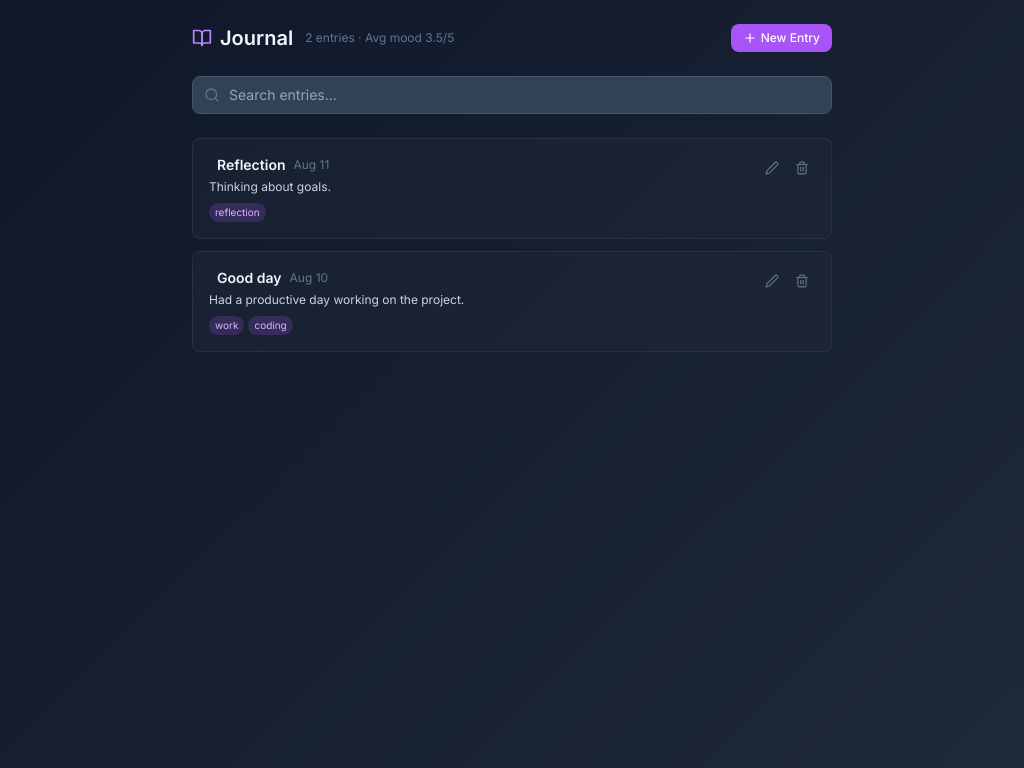
Test case: JournalPage › closes modal when Escape is pressed
The width and height of the screenshot is (1024, 768).
Click the button "New Entry". click: click(781, 38)
box: [731,24,832,52]
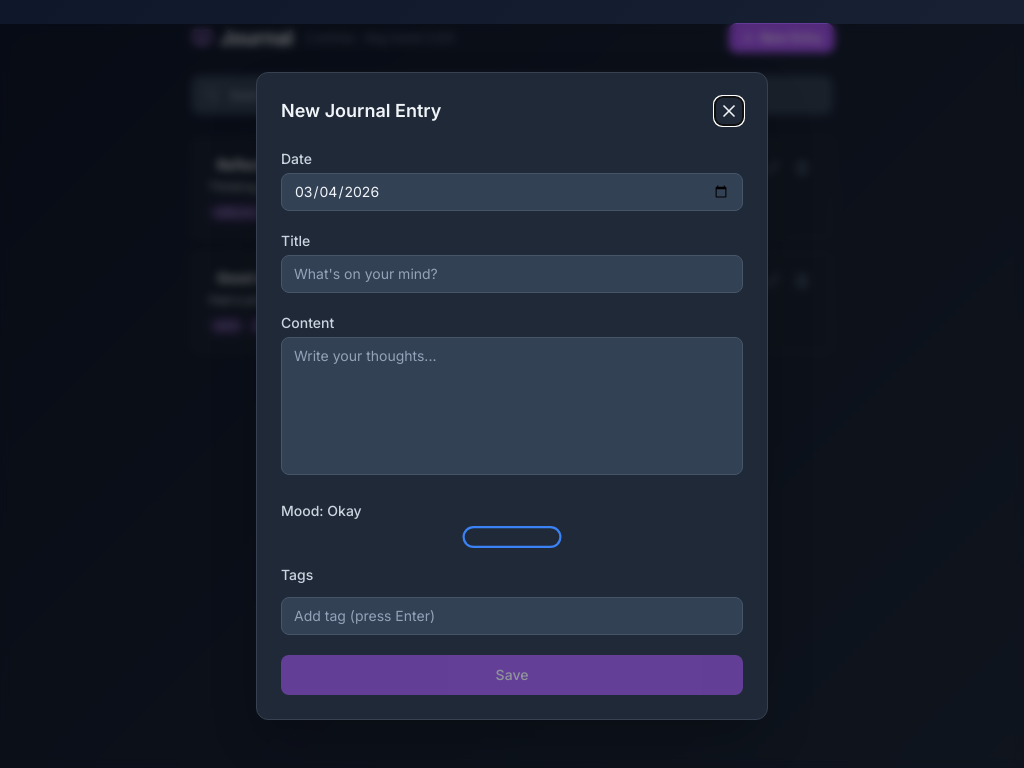
Expected: the heading "New Journal Entry" is shown, [281,97,441,125]
Press Escape
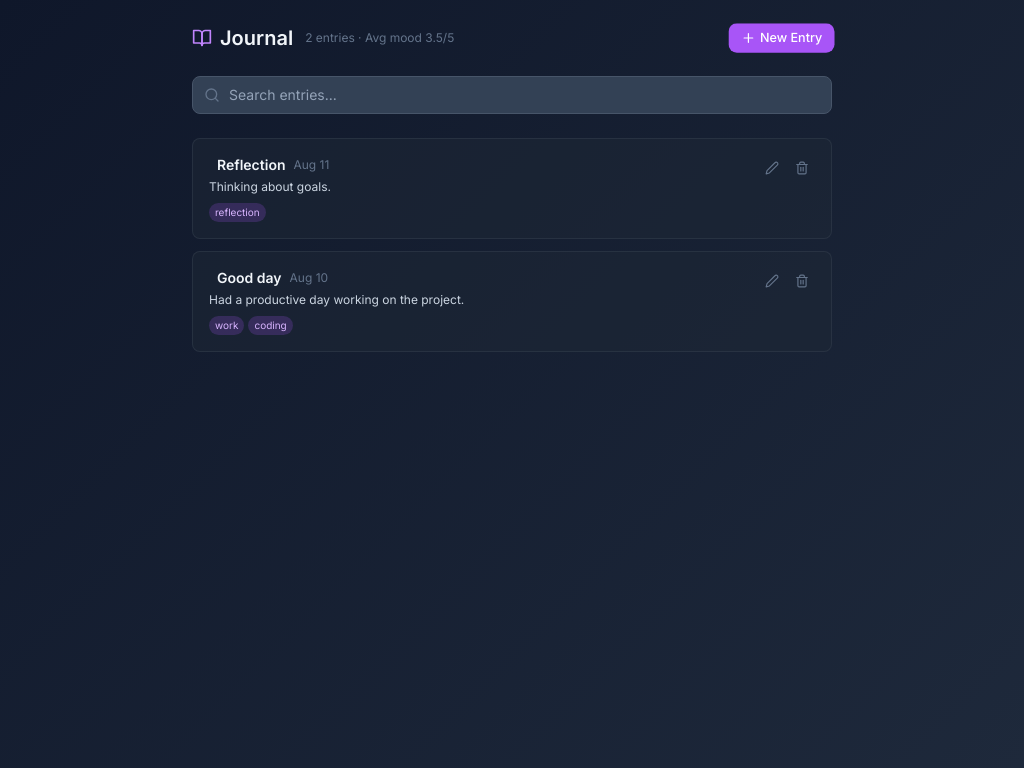
Expected: the heading "New Journal Entry" is gone
